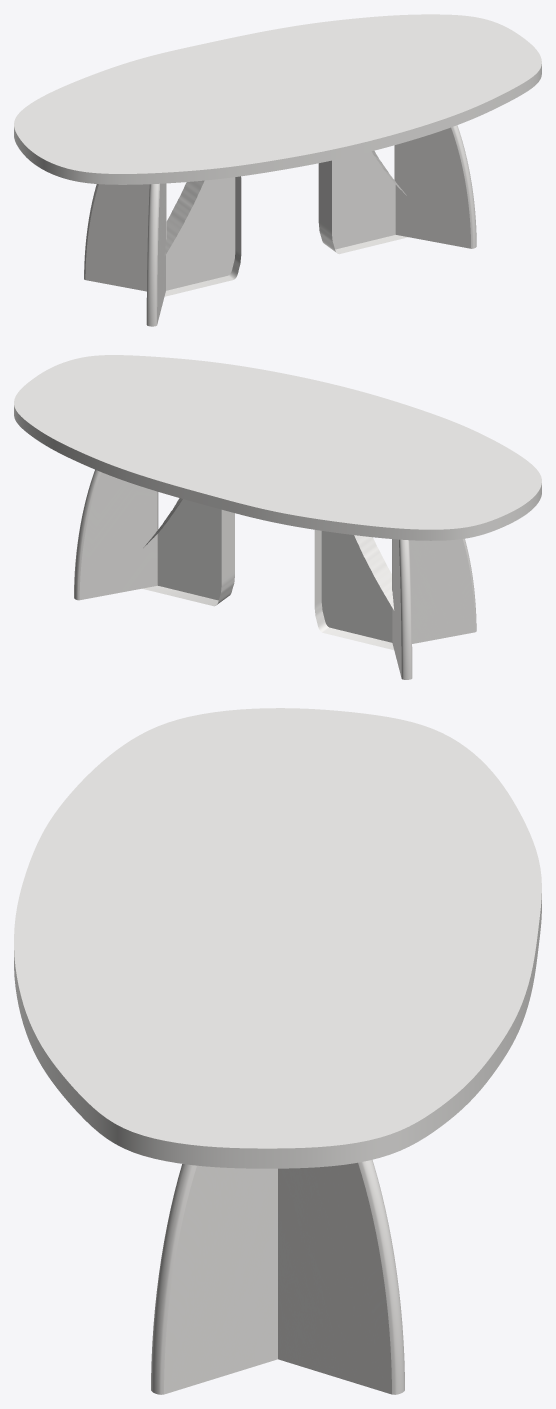
The model's file is purewhite_danish_standard_plane.glb.
3 views of the same model, one above another, from view 1: azimuth 30°, elevation 25°; view 2: azimuth 150°, elevation 25°; view 3: azimuth 270°, elevation 25° (orthographic). The views are drawn at different scales.
Visible parts, largest first — view 1: standard_danish, plane_singleright2, plane_single1, plane_single2, plane_singleleft1, plane_singleright1; view 2: standard_danish, plane_singleleft2, plane_single1, plane_single2, plane_singleright1, plane_singleleft1; view 3: standard_danish, plane_singleleft2, plane_singleright2.
Boxes of the visible parts, box(x1,y1,x2,y2) form: standard_danish: box(14, 14, 541, 184); plane_singleright2: box(394, 125, 476, 248); plane_single1: box(164, 176, 241, 296); plane_single2: box(318, 151, 407, 254); plane_singleleft1: box(84, 183, 166, 291); plane_singleright1: box(146, 183, 165, 326); standard_danish: box(14, 355, 541, 540); plane_singleleft2: box(74, 469, 157, 600); plane_single1: box(314, 530, 394, 649); plane_single2: box(142, 498, 234, 606); plane_singleright1: box(392, 538, 476, 643); plane_singleleft1: box(392, 539, 412, 679); standard_danish: box(14, 708, 541, 1168); plane_singleleft2: box(278, 1159, 404, 1394); plane_singleright2: box(151, 1164, 277, 1394).
Size of the model in its own units: 7.5 by 2.5 by 3.8.
1 material, 1 textured.
